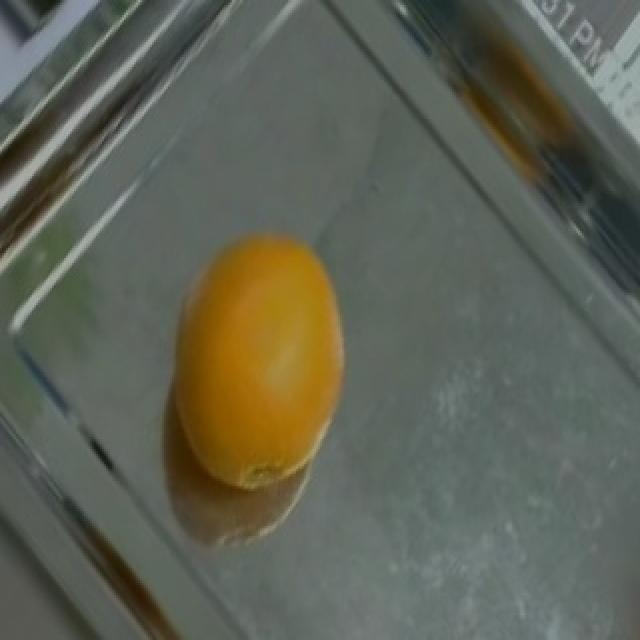Fruit: (150, 211, 366, 548)
